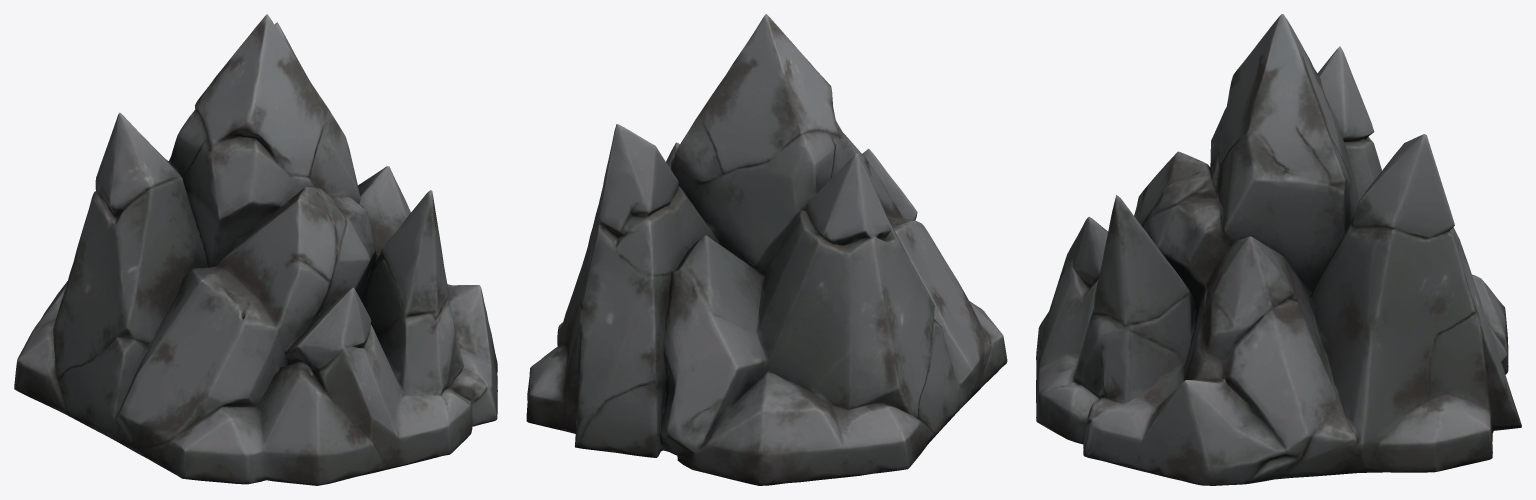
Rendered from coal-node.glb.
3 renders of one model, left to right at view 1: azimuth 30°, elevation 25°; view 2: azimuth 150°, elevation 25°; view 3: azimuth 270°, elevation 25°, orthographic. The views are drawn at different scales.
Parts seen in each view (by area): view 1: world; view 2: world; view 3: world.
Part boxes in pixels (<box>): world: <box>14,14,497,485</box>; world: <box>526,14,1007,485</box>; world: <box>1036,14,1521,485</box>.
Size of the model in its own units: 0.9491 by 0.858 by 1.
Materials: 1 (1 with a texture image).
